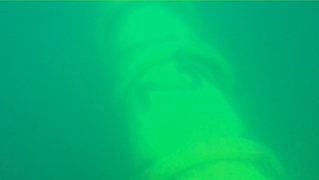2: (135, 65, 204, 116)
pipe: (94, 1, 289, 179)
